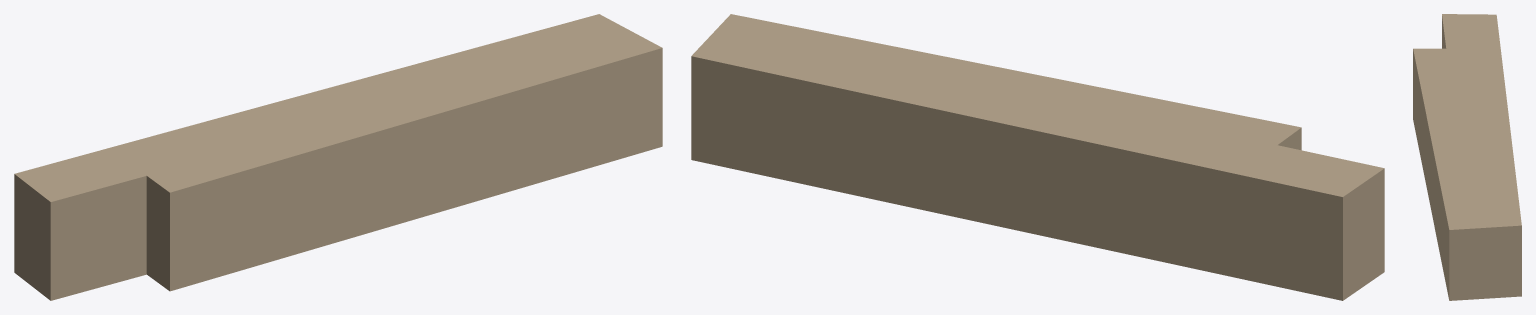
File: bld_359361990.dae
The picture shows the model from 3 angles, left to right: view 1: azimuth 30°, elevation 25°; view 2: azimuth 150°, elevation 25°; view 3: azimuth 270°, elevation 25°; orthographic projection. The views are drawn at different scales.
Visible parts, largest first — view 1: bld_359361990; view 2: bld_359361990; view 3: bld_359361990.
Part boxes in pixels (<box>): bld_359361990: <box>14,14,662,300</box>; bld_359361990: <box>691,14,1384,300</box>; bld_359361990: <box>1413,14,1521,300</box>.
Size of the model in its own units: 52.29 by 11.12 by 8.
